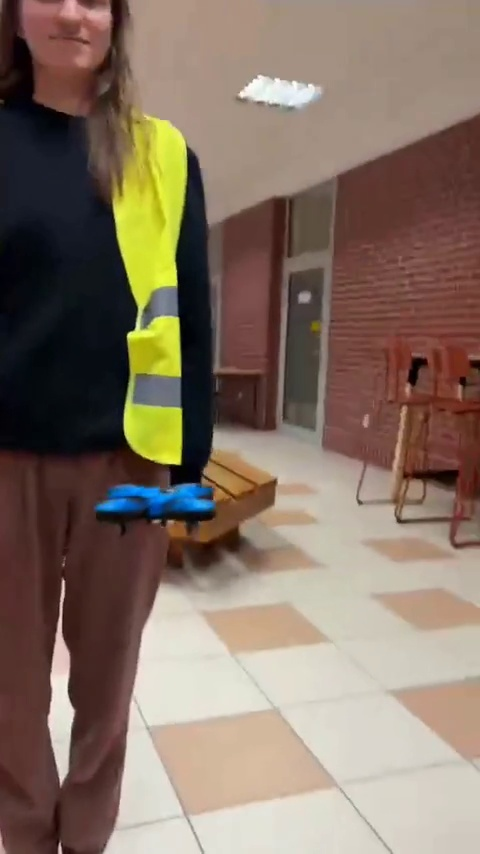drone: (93, 470, 215, 542)
vest: (5, 60, 219, 854)
